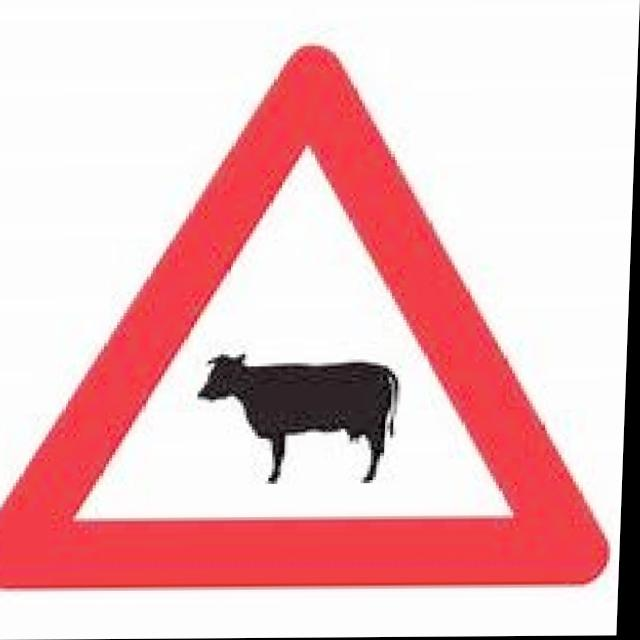CATTLE: (0, 39, 630, 604)
